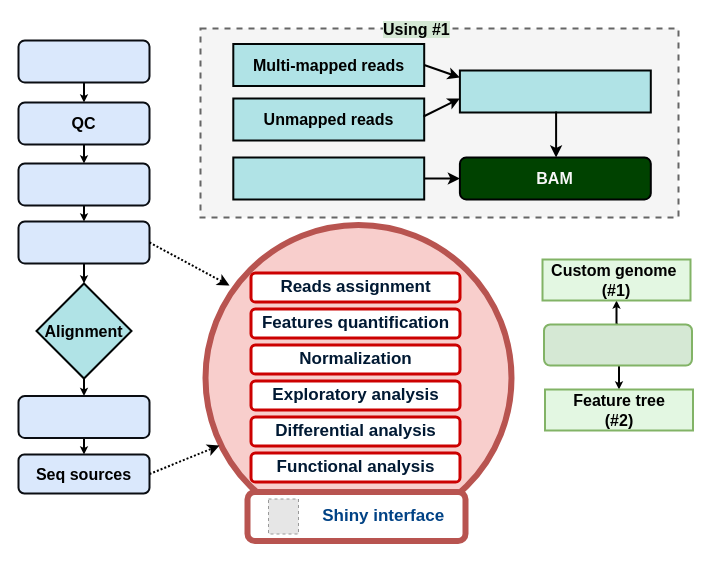
This 711x561 diagram has some shape labels left out. Grey dashed boxes stand in for pictures. Each missing label, with the box of its shape:
Collapse: (17, 162, 150, 206)
Count matrix: (17, 220, 150, 264)
FastQ or SRA: (17, 39, 150, 83)
Mapped reads: (232, 156, 425, 200)
Parse BAM (Using #2): (17, 394, 150, 438)
Rules to map: (458, 69, 651, 113)
shortRNA: (202, 222, 514, 534)
Sources (Fig. 1): (542, 323, 692, 366)
